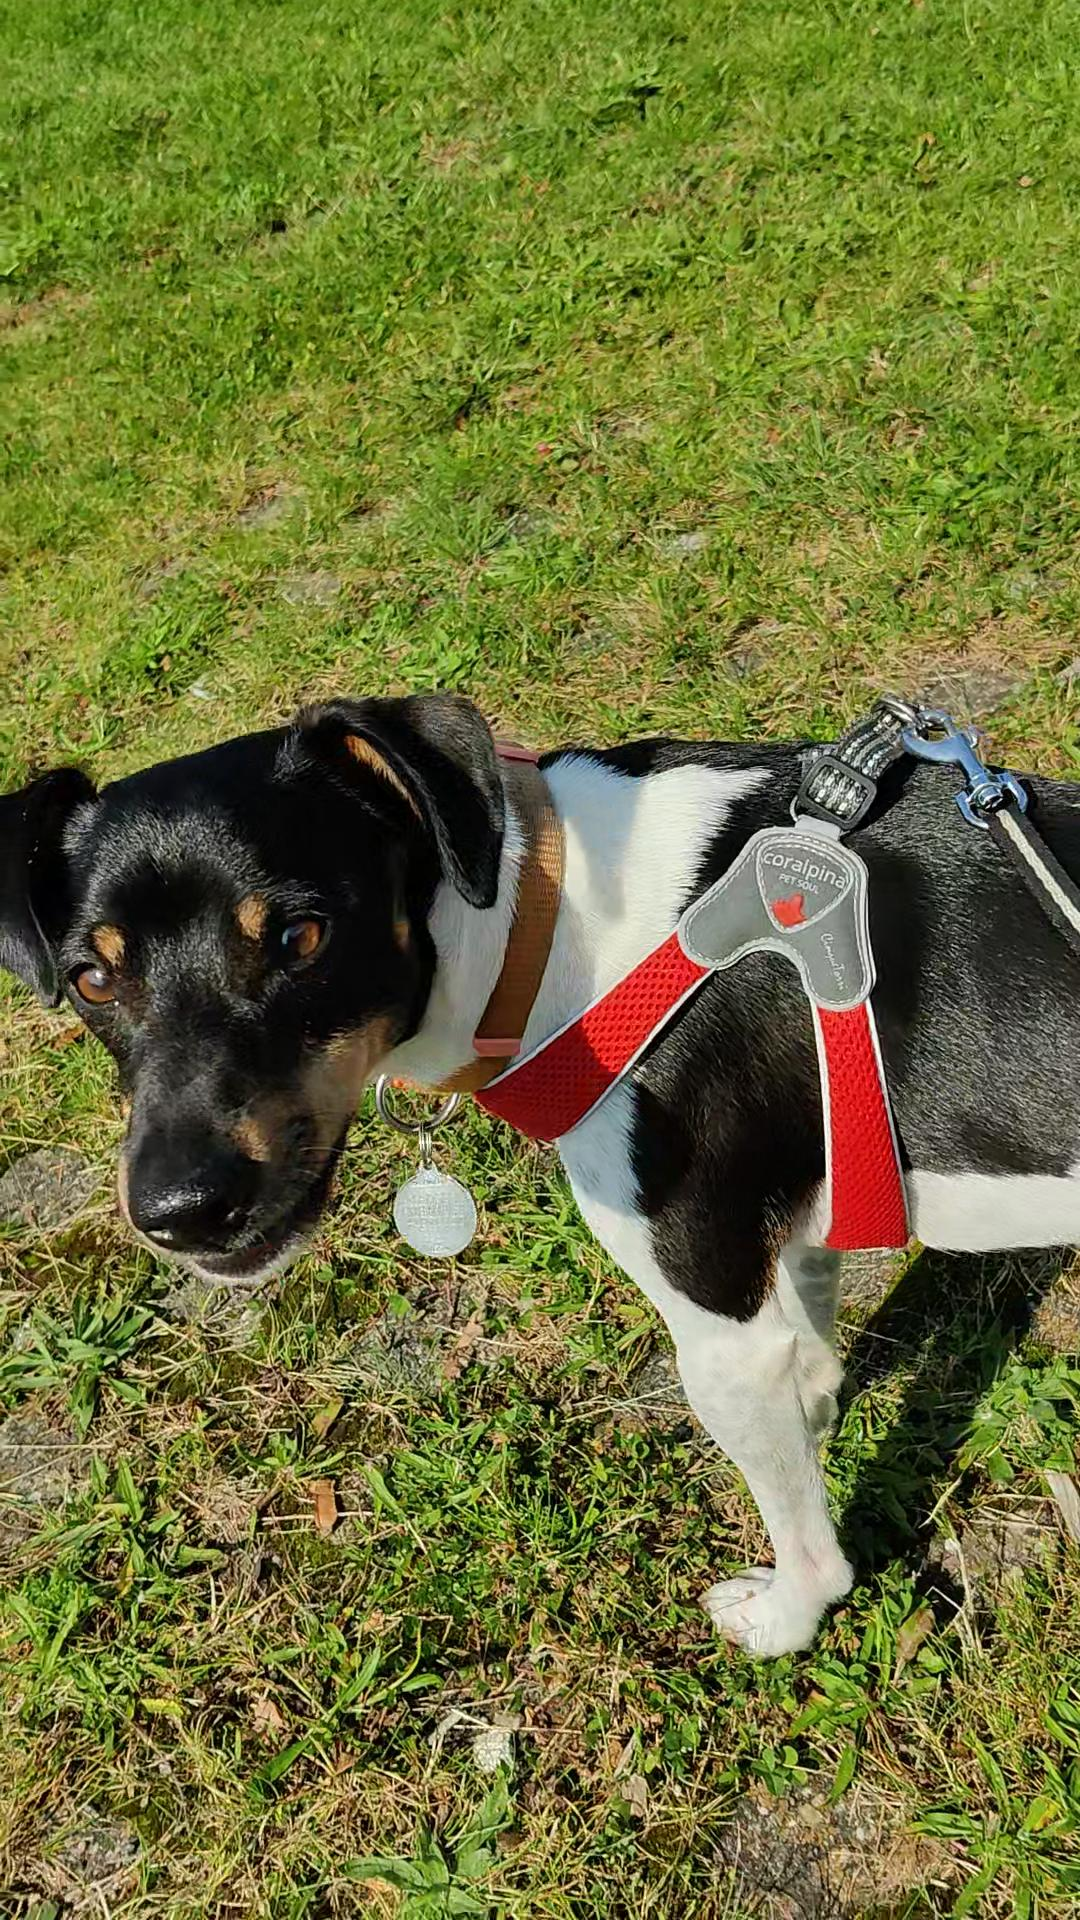Dog: (0, 650, 1080, 1677)
